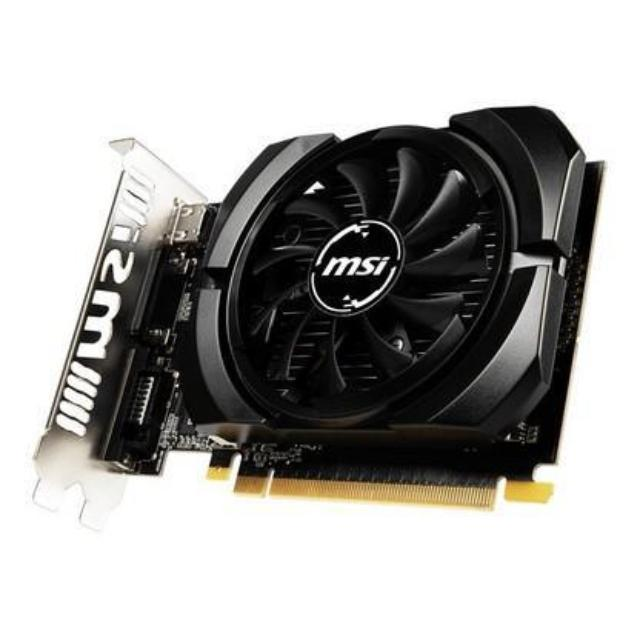GPU: (17, 96, 614, 521)
